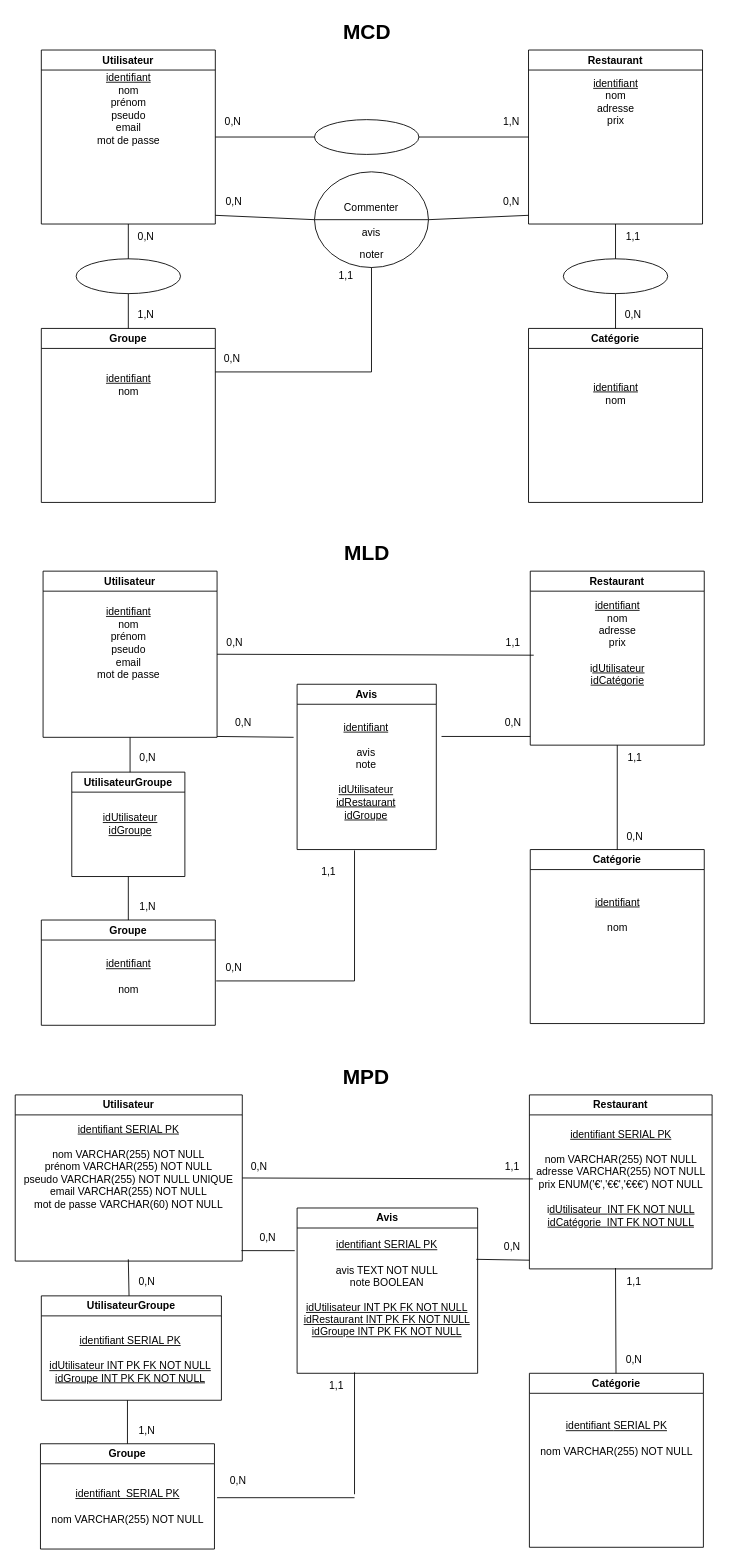
This 732x1564 diagram has some shape labels left out. The shapes that lost their labels are listed below. From the top down, each one's centre as x and y in pixels, then its label:
At (x=366, y=136): "Ajouter".
At (x=128, y=276): "Appartenir".
At (x=615, y=276): "Choisir".
